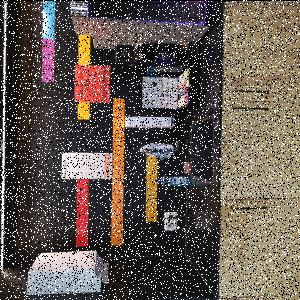Plastic-bottle: (155, 175, 192, 187)
